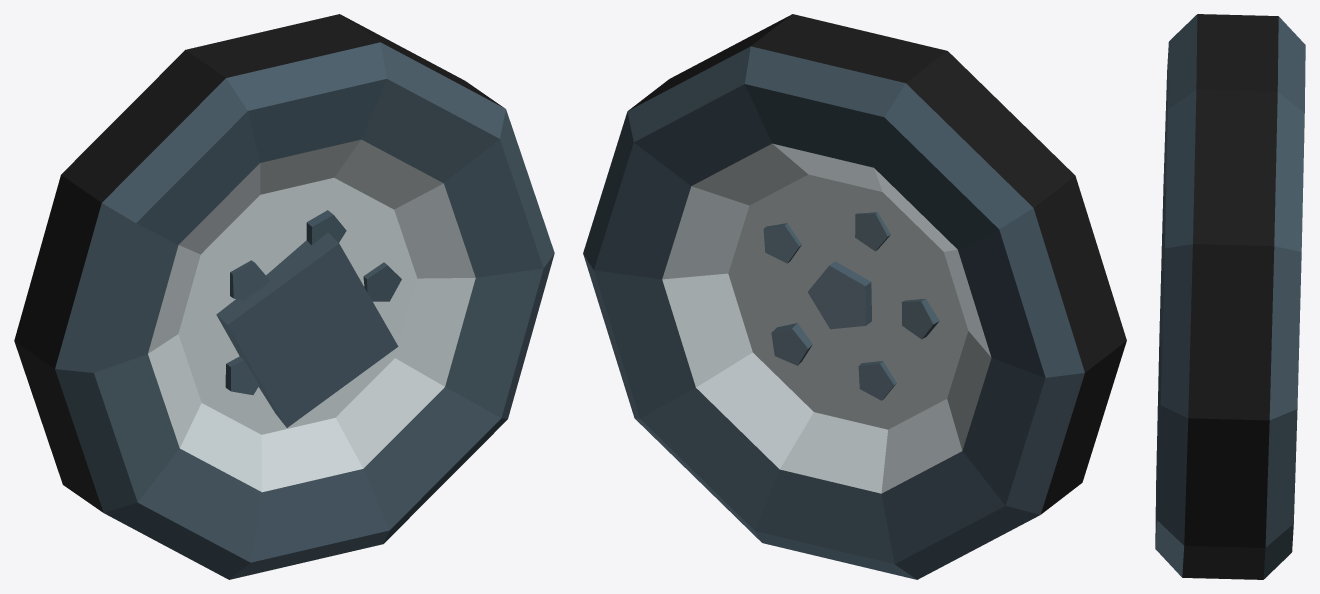
File: buggytirefront.glb
3 renders of one model, left to right at view 1: azimuth 30°, elevation 25°; view 2: azimuth 150°, elevation 25°; view 3: azimuth 270°, elevation 25°, orthographic. The views are drawn at different scales.
Visible parts, largest first — view 1: group35187853; view 2: group35187853; view 3: group35187853.
Part boxes in pixels (box(x1,y1,x2,y2)): group35187853: box(14, 14, 554, 579); group35187853: box(583, 14, 1126, 579); group35187853: box(1155, 14, 1305, 579).
Size of the model in its own units: 0.53 by 0.5069 by 0.14.
